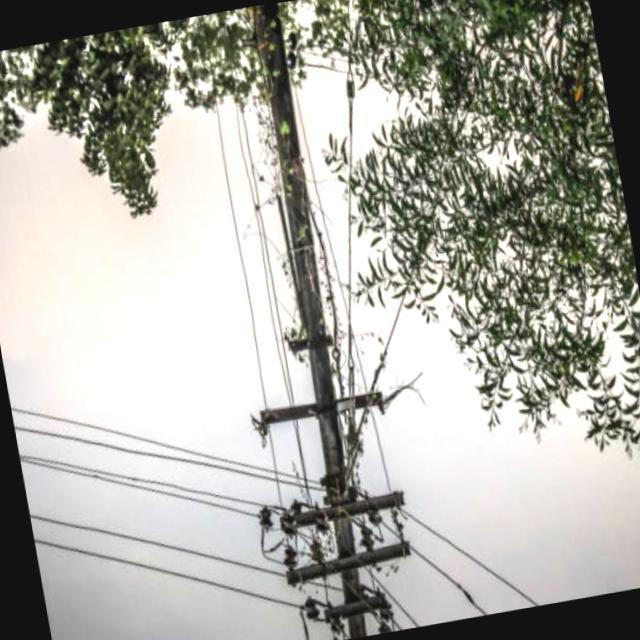critical vegetation: (214, 59, 425, 640), (248, 113, 288, 207)
